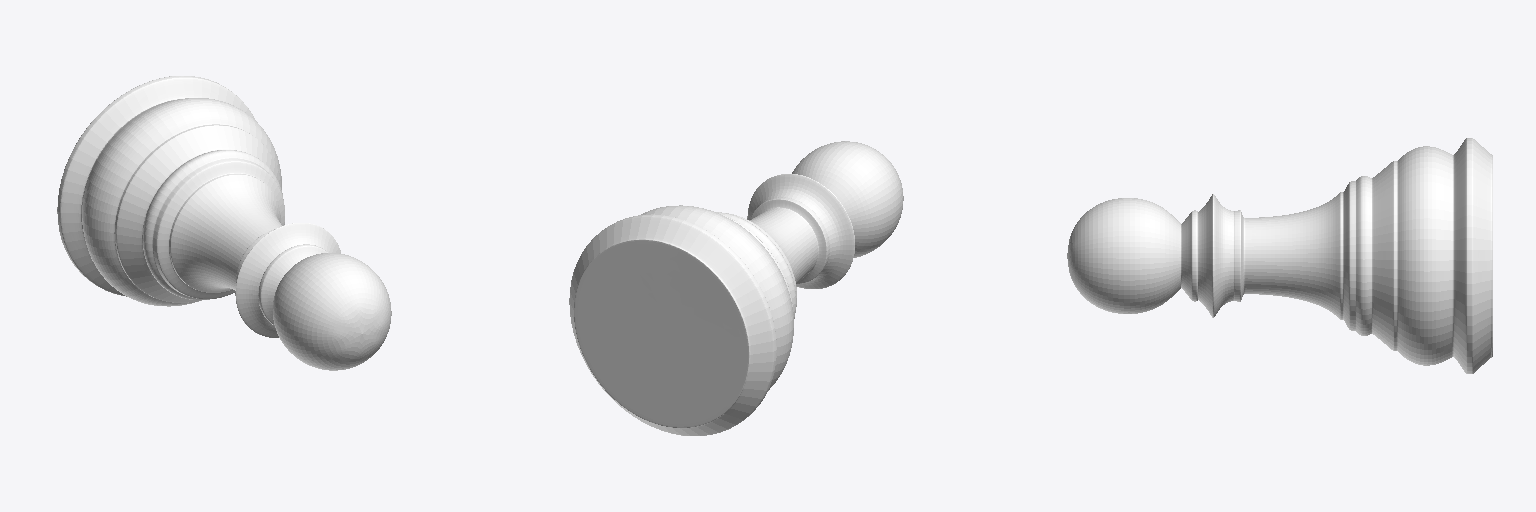
File: Pawn.obj
The picture shows the model from 3 angles: view 1: azimuth 30°, elevation 25°; view 2: azimuth 150°, elevation 25°; view 3: azimuth 270°, elevation 25°; orthographic projection.
Visible parts, largest first — view 1: 12931_WoodenChessPawnSideA_v1_l3.002; view 2: 12931_WoodenChessPawnSideA_v1_l3.002; view 3: 12931_WoodenChessPawnSideA_v1_l3.002.
Boxes of the visible parts, x1,y1,x2,y2 form: 12931_WoodenChessPawnSideA_v1_l3.002: [57, 76, 391, 370]; 12931_WoodenChessPawnSideA_v1_l3.002: [569, 141, 903, 435]; 12931_WoodenChessPawnSideA_v1_l3.002: [1067, 138, 1492, 373].
Bounding box in the file's own units: 0.8933 × 0.8933 × 1.61.